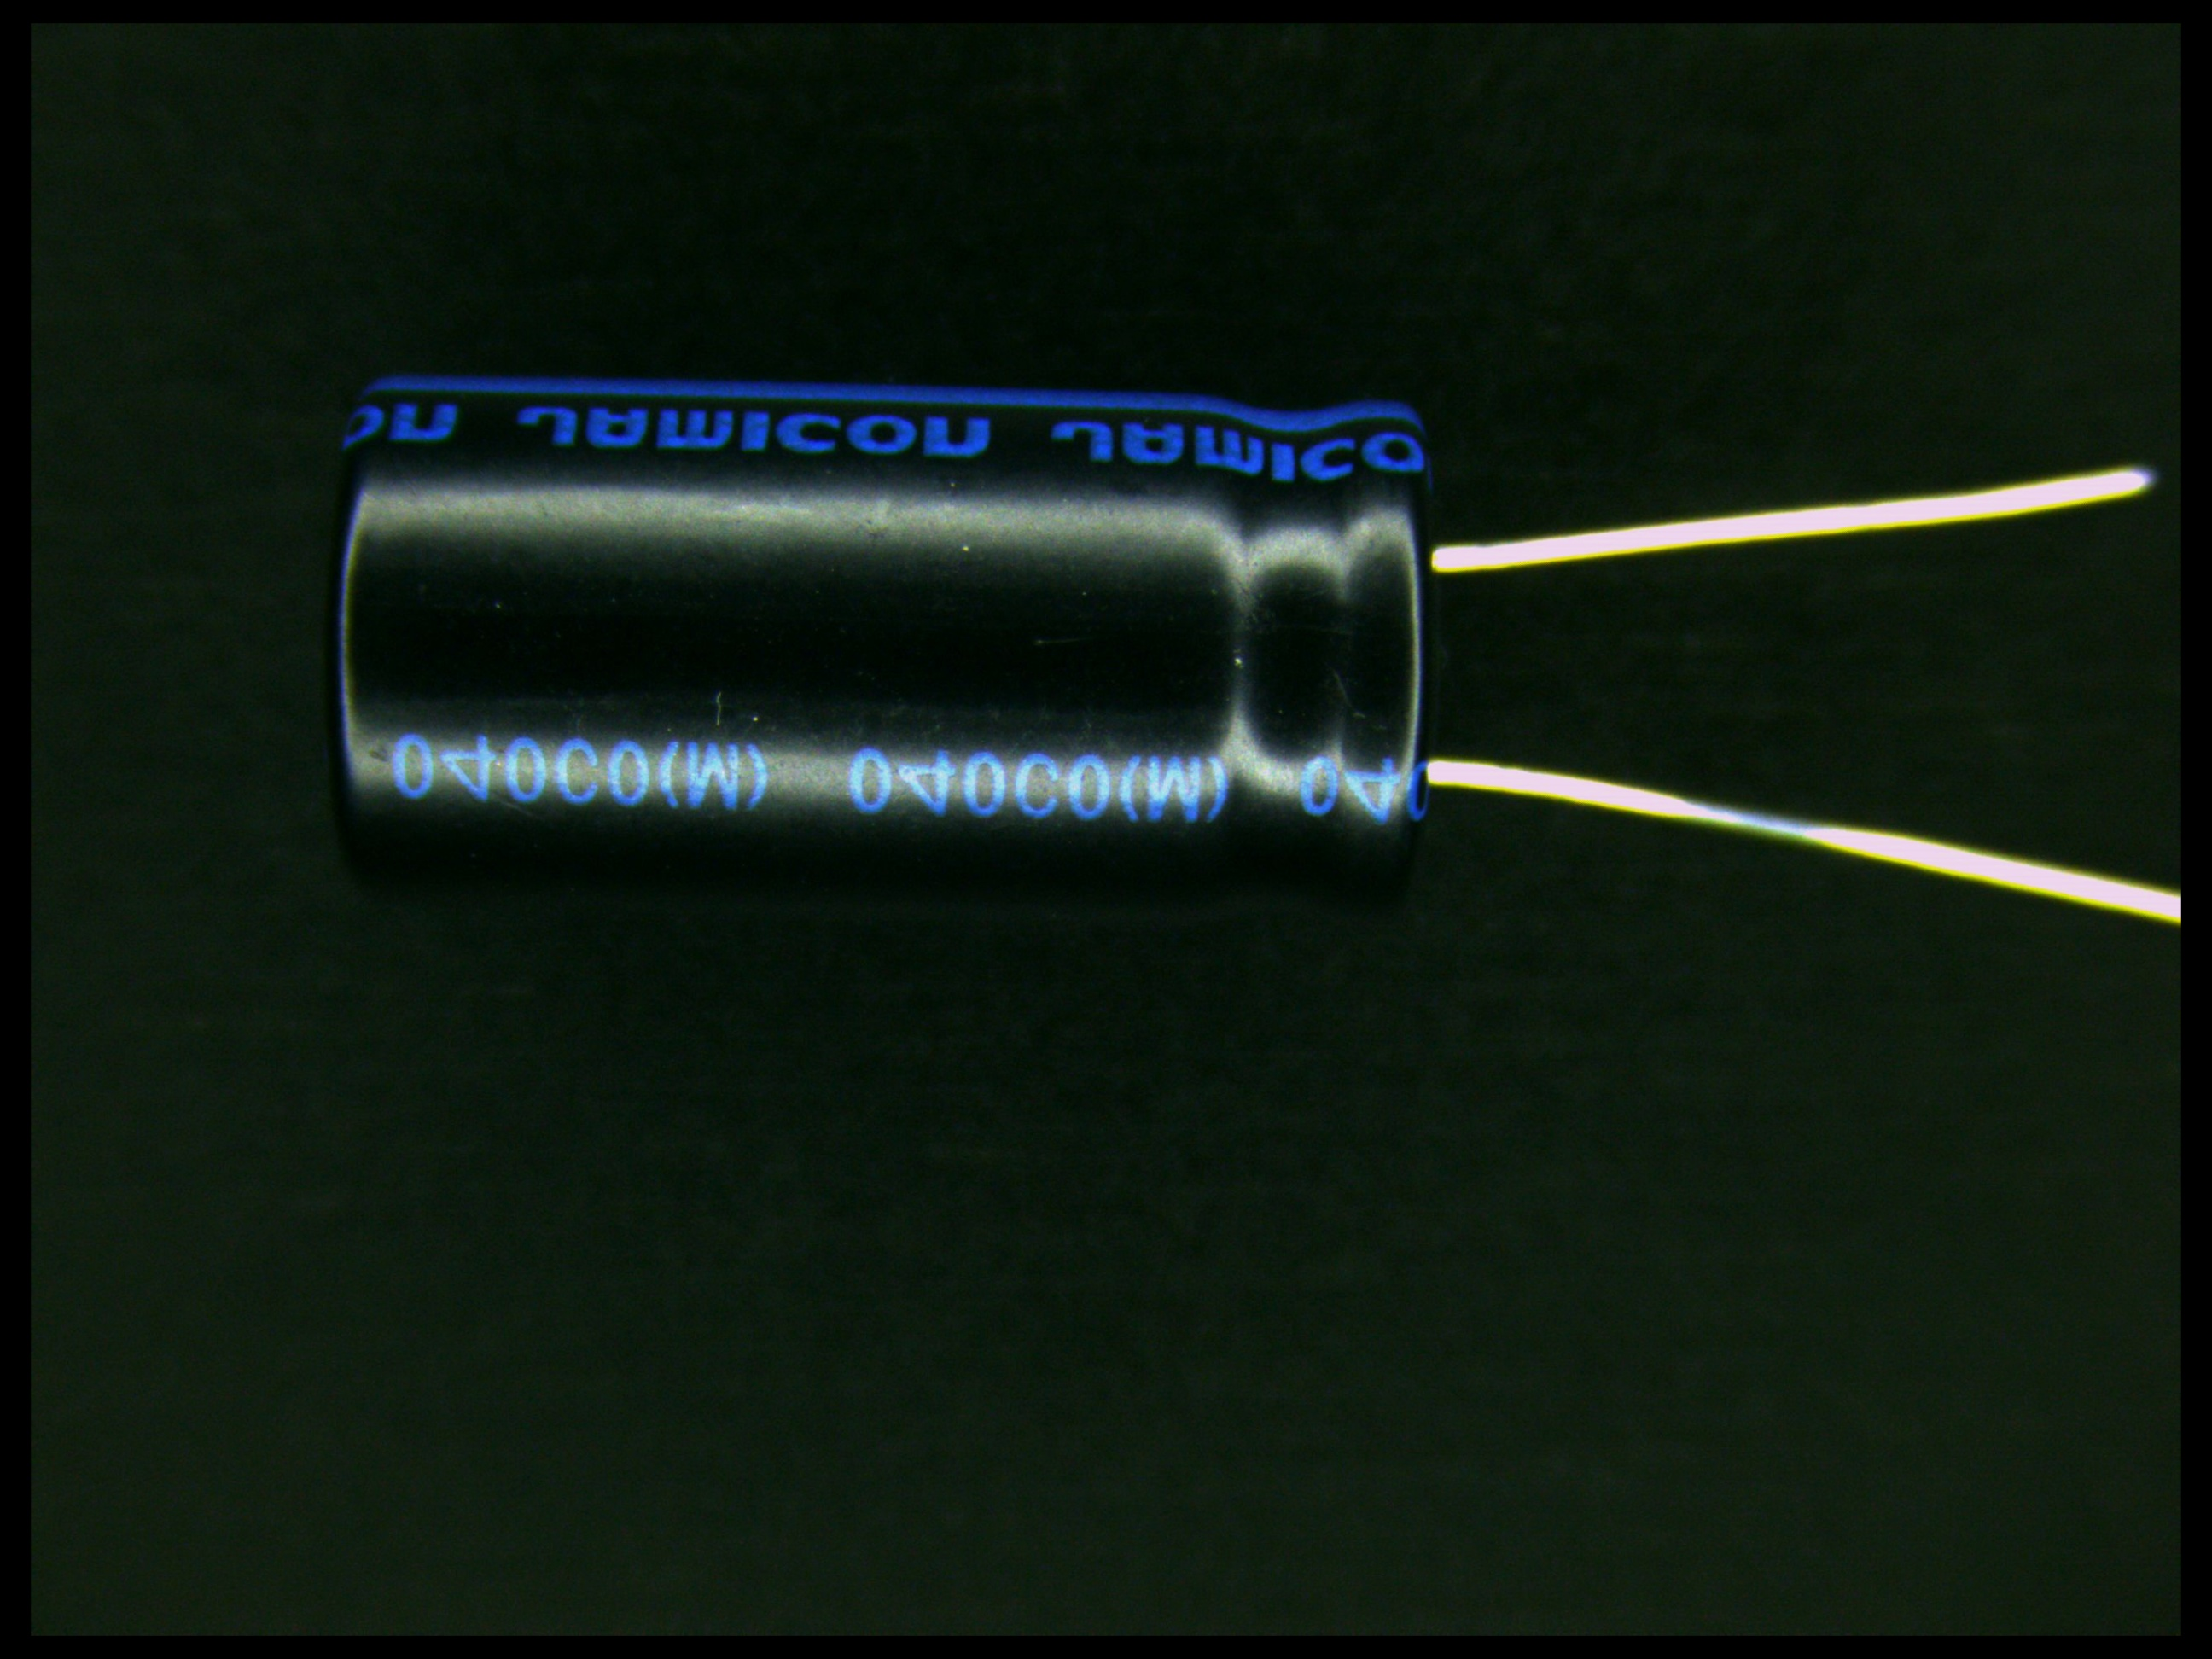c2: (322, 373, 1580, 884)
